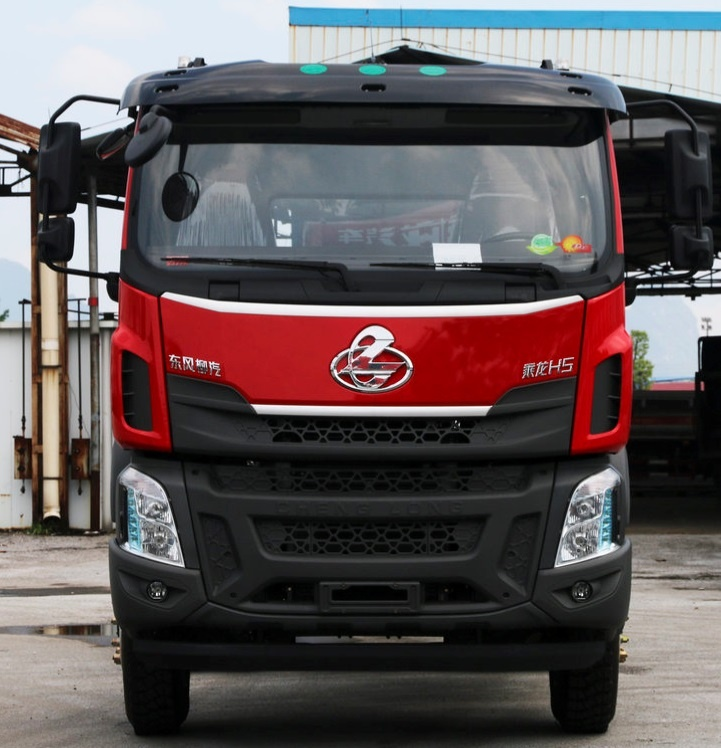minibus: (18, 46, 687, 748)
